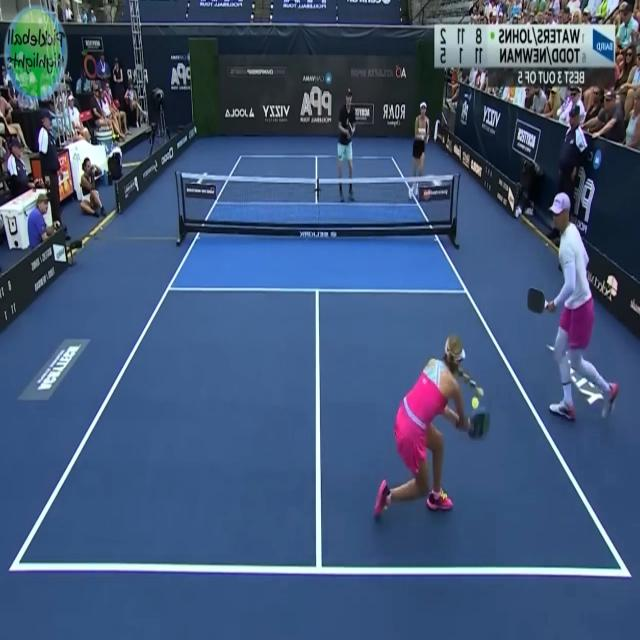Pickleball: (472, 394, 480, 410)
